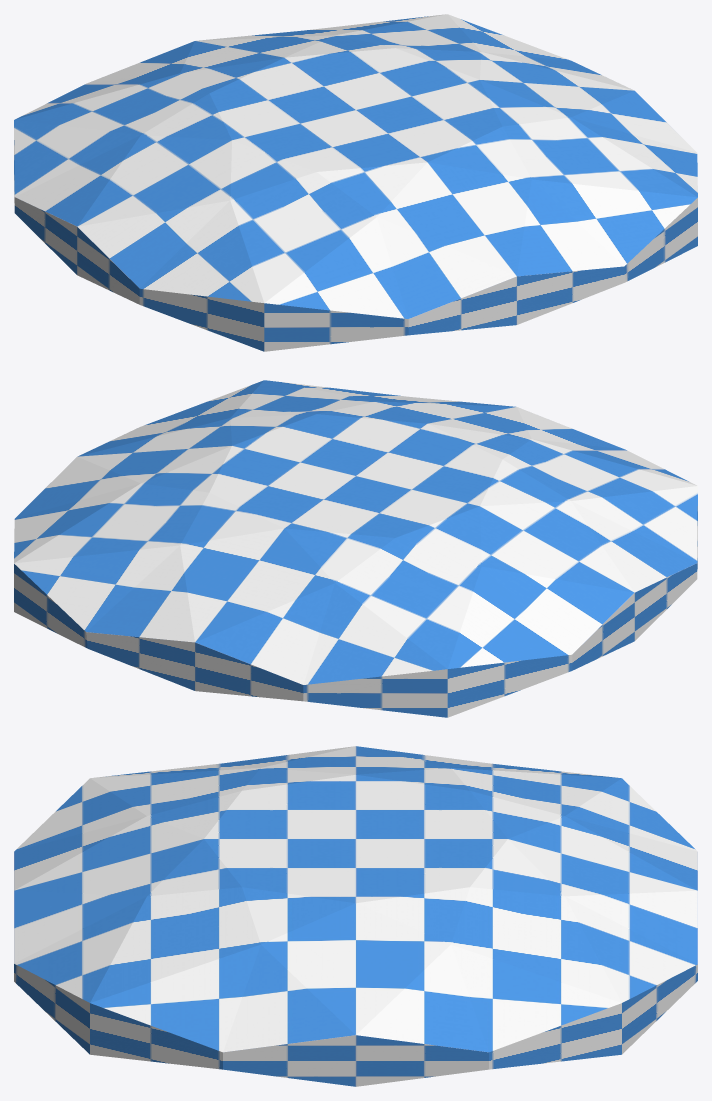
The model's file is RoundCutDouble.FBX.
The picture shows the model from 3 angles, top to bottom: view 1: azimuth 30°, elevation 25°; view 2: azimuth 150°, elevation 25°; view 3: azimuth 270°, elevation 25°; orthographic projection. The views are drawn at different scales.
Parts seen in each view (by area): view 1: RoundCutDouble; view 2: RoundCutDouble; view 3: RoundCutDouble.
Part boxes in pixels (left/top/right/bottom): RoundCutDouble: left=14, top=14, right=697, bottom=351; RoundCutDouble: left=14, top=380, right=697, bottom=717; RoundCutDouble: left=14, top=746, right=697, bottom=1086.
Size of the model in its own units: 1.14 by 0.2858 by 1.14.
